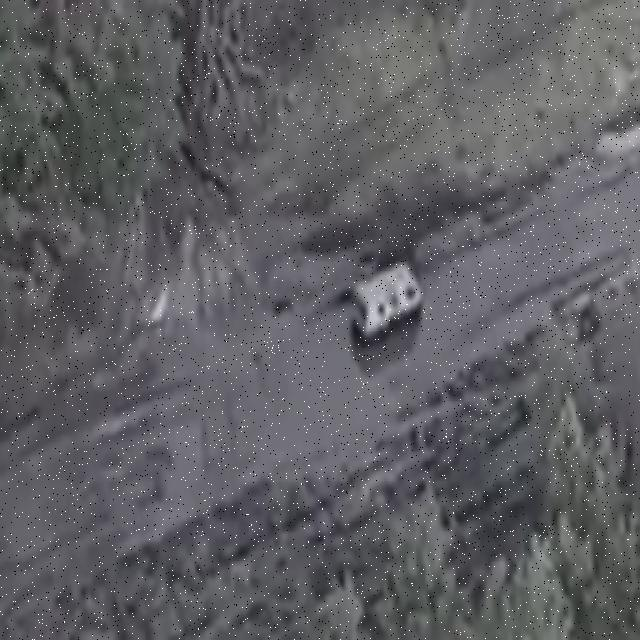CAR: (355, 256, 423, 342)
